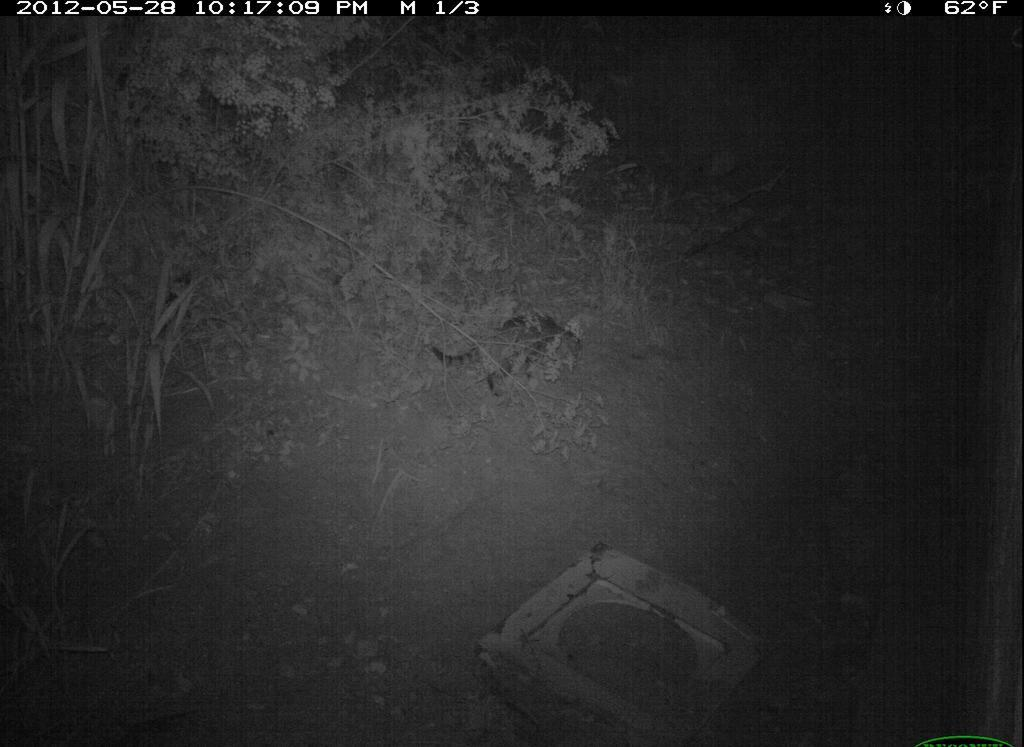cat: (424, 300, 585, 404)
